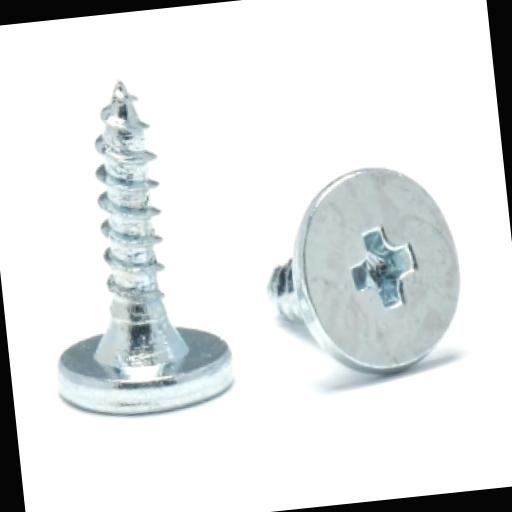Phillips: (287, 154, 474, 391)
